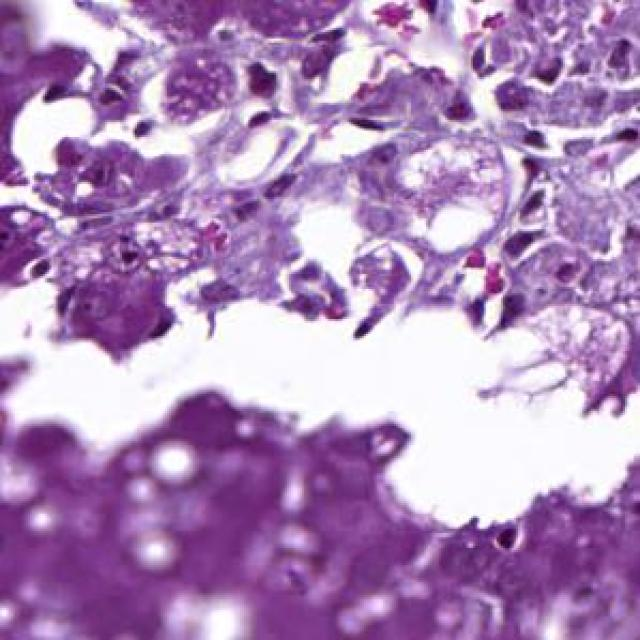ballooning: (383, 133, 514, 261)
